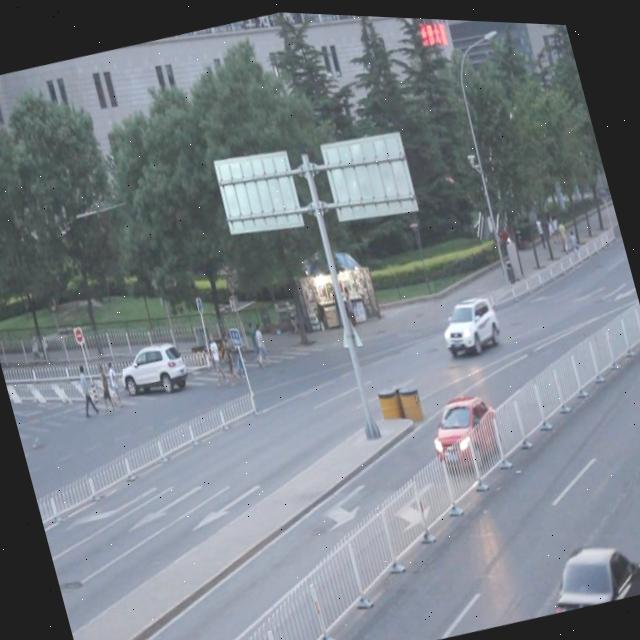car: (538, 524, 640, 611), (422, 383, 505, 467), (114, 332, 190, 401), (434, 283, 502, 356)
